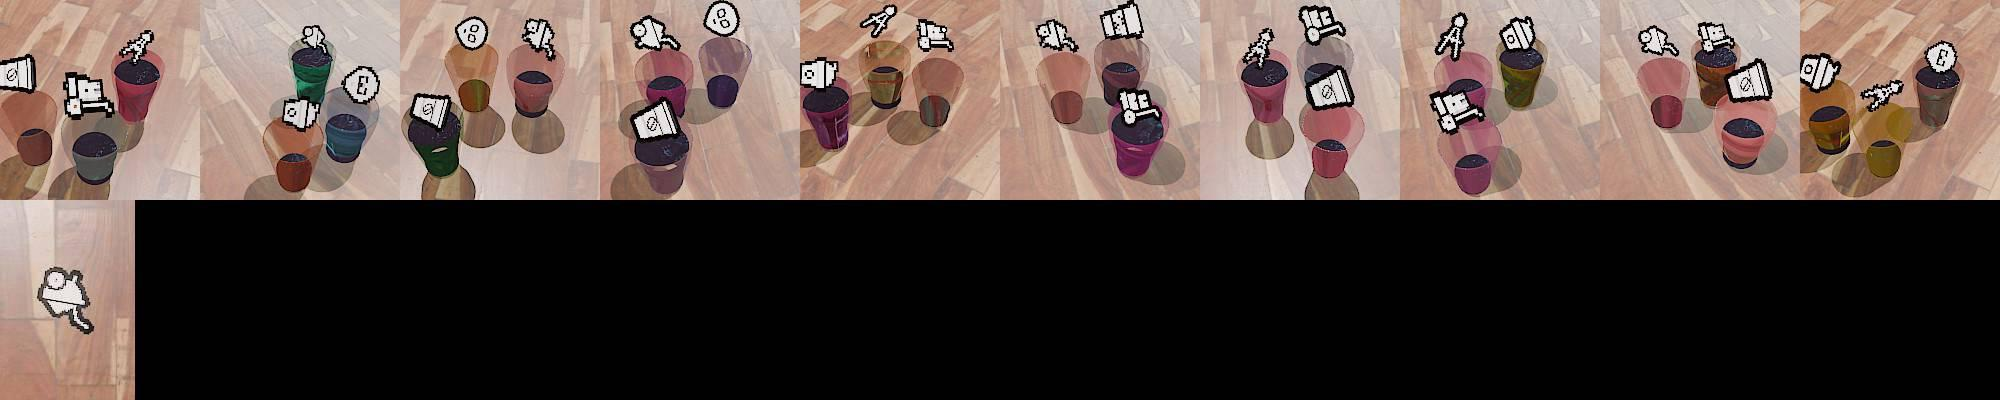icon: (36, 265, 94, 335), (1429, 85, 1485, 135), (62, 70, 113, 120), (1304, 64, 1356, 111), (629, 98, 682, 142), (1725, 57, 1773, 105), (629, 15, 682, 53), (1298, 3, 1345, 45), (1098, 2, 1146, 41), (407, 92, 454, 131), (1115, 87, 1160, 126), (1435, 11, 1469, 62), (341, 64, 380, 105), (1800, 53, 1841, 91), (1638, 24, 1681, 60), (1500, 15, 1539, 54), (521, 17, 557, 59), (1036, 17, 1078, 53), (0, 53, 37, 93), (1242, 26, 1275, 70), (702, 1, 741, 38), (1859, 79, 1905, 110), (916, 17, 954, 53), (281, 96, 321, 130), (799, 57, 840, 90), (858, 4, 897, 38), (119, 28, 155, 63), (454, 16, 488, 51), (1924, 40, 1958, 74), (1698, 21, 1730, 53), (298, 24, 328, 52)
